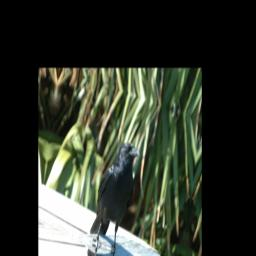Crow: (89, 132, 141, 254)
